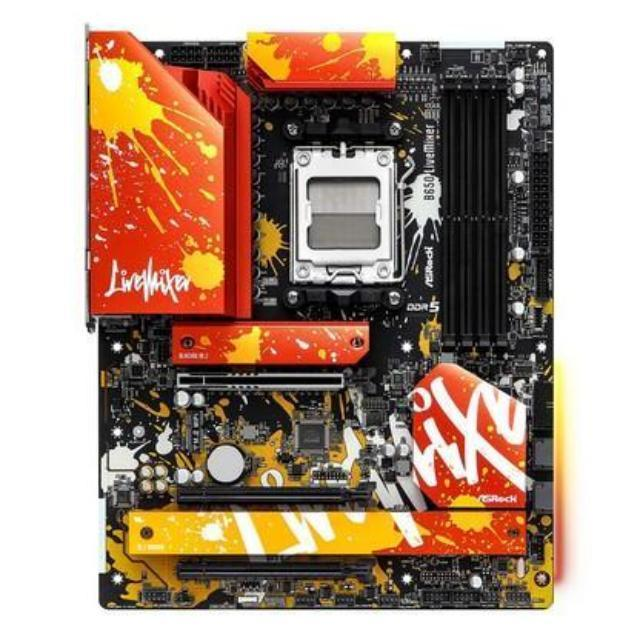Mainboard: (79, 18, 556, 620)
